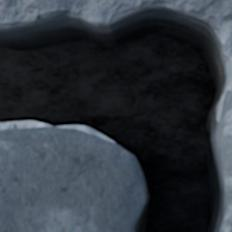broken_brick: (0, 126, 142, 231), (221, 90, 231, 231)
crack: (0, 0, 231, 231)
